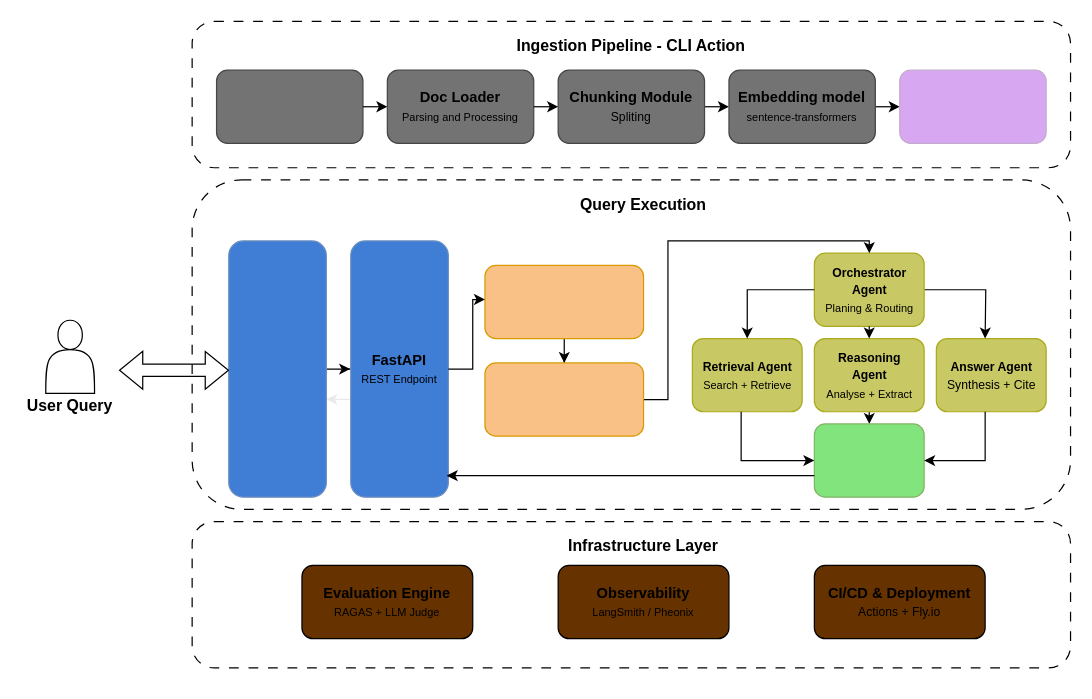
Some shapes in this 1092 by 699 pixel diagram are drawn without their labels. Each missing label, with the centre of its shape:
"Final Answer Cited" goes at (868,460).
"Hybrid Search BM25 + Dense + Rerank" goes at (564,399).
"Qdrant Vector Store" goes at (972,106).
"Query Understanding Expand and Rewrite" goes at (564,301).
"Raw PDFs 10-K/10-Q Filings" goes at (289,106).
"Streamlit Frontend" goes at (277,368).
